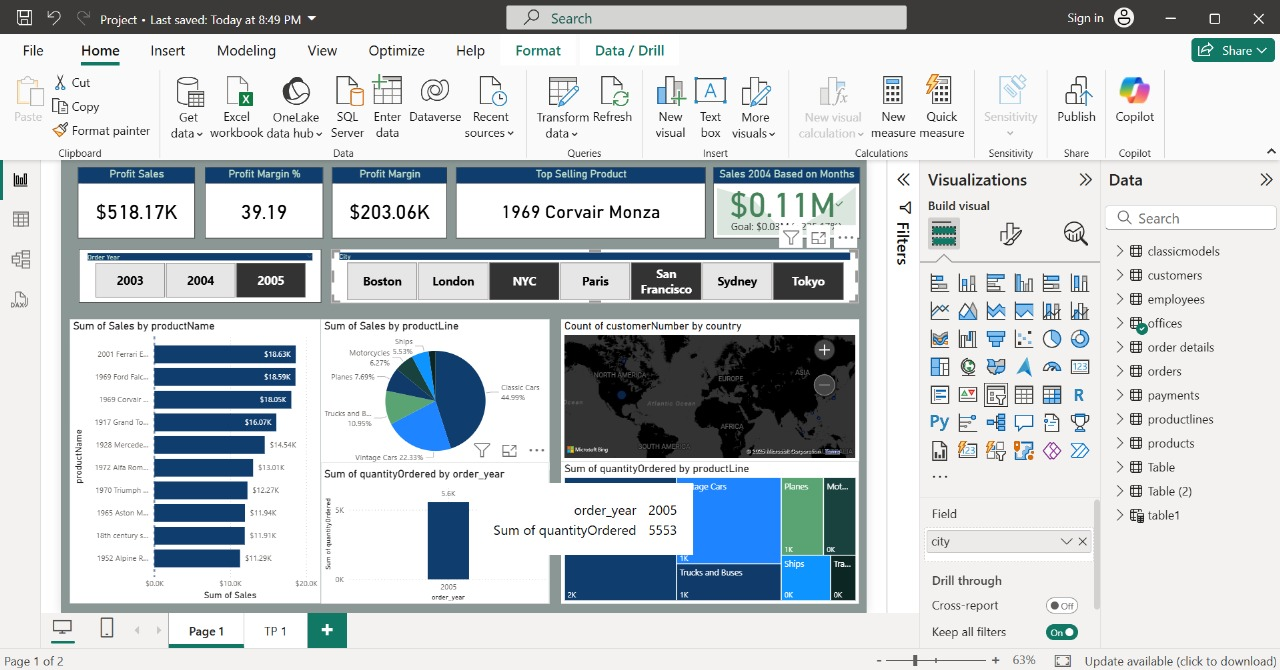

The page's visual inventory and layout, read from the dashboard file:
{"tool":"powerbi","page":{"name":"Page 1","canvas":[1280,720],"ordinal":0},"visuals":[{"type":"card","title":"Profit Margin","fields":{"Values":["order details.total_profit"]},"box":[430.7,11.3,183,113.3],"z":0},{"type":"card","title":"Top Selling Product","fields":{"Values":["order details.MostOrderedProduct"]},"box":[625.1,12.7,396.1,112.9],"z":1000},{"type":"barChart","fields":{"Category":["products.productName"],"Y":["Sum(order details.Sales)"]},"box":[15,253.3,398.3,451.7],"z":2000},{"type":"pieChart","fields":{"Category":["products.productLine"],"Y":["Sum(order details.Sales)"]},"box":[413.6,252.9,362.7,240.2],"z":3000},{"type":"slicer","fields":{"Values":["orders.order_year"]},"box":[14.3,141.6,402.4,85.9],"z":4000},{"type":"kpi","title":"Sales 2004 Based on Months","fields":{"Indicator":["orders.sales_2004"],"Goal":["orders.sales_2003"],"TrendLine":["orders.Month Name"]},"box":[1036.3,11.3,233.2,113.3],"z":5000},{"type":"map","fields":{"Size":["CountNonNull(customers.customerNumber)"],"Category":["customers.country"]},"box":[795.3,251.3,472.4,227.5],"z":6000},{"type":"treemap","fields":{"Group":["productlines.productLine"],"Values":["Sum(order details.quantityOrdered)"]},"box":[795,480,473.3,225],"z":7000},{"type":"clusteredColumnChart","fields":{"Y":["Sum(order details.quantityOrdered)"],"Category":["orders.order_year"]},"box":[413.3,480,363.3,225],"z":8000},{"type":"card","title":"Profit Margin %","fields":{"Values":["classicmodels.Profit_Margin_%"]},"box":[225.9,12.7,190.9,112.9],"z":9000},{"type":"card","title":"Profit Sales","fields":{"Values":["Sum(order details.Sales)"]},"box":[14.3,12.7,198.8,112.9],"z":10000},{"type":"slicer","fields":{"Values":["offices.city"]},"box":[431.1,141.6,838.3,84.3],"z":11000}]}

Visuals, with their boxes on the page's 1280x720 design canvas (x1, y1, x2, y2). These are canvas units, not pixel positions in the 1280x670 screenshot, which may show the page scaled, cropped or inside an application window:
"Profit Margin" card: 431 11 614 125
"Top Selling Product" card: 625 13 1021 126
barChart - products.productName x Sum(order details.Sales): 15 253 413 705
pieChart - products.productLine x Sum(order details.Sales): 414 253 776 493
slicer - orders.order_year: 14 142 417 228
"Sales 2004 Based on Months" kpi: 1036 11 1270 125
map - CountNonNull(customers.customerNumber) x customers.country: 795 251 1268 479
treemap - productlines.productLine x Sum(order details.quantityOrdered): 795 480 1268 705
clusteredColumnChart - Sum(order details.quantityOrdered) x orders.order_year: 413 480 777 705
"Profit Margin %" card: 226 13 417 126
"Profit Sales" card: 14 13 213 126
slicer - offices.city: 431 142 1269 226
